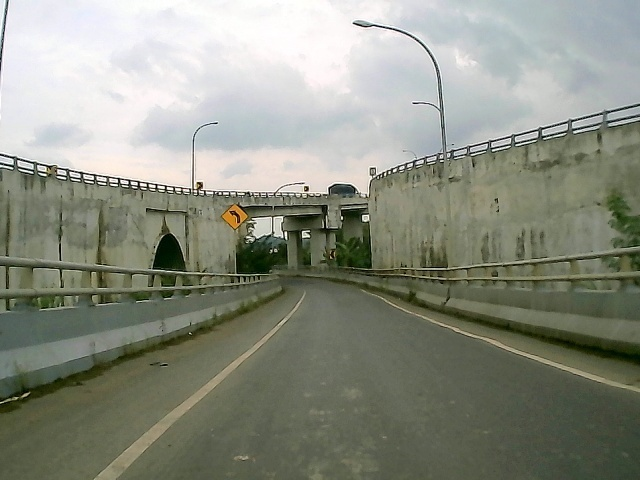Tikungan ke kiri: (219, 201, 250, 232)
